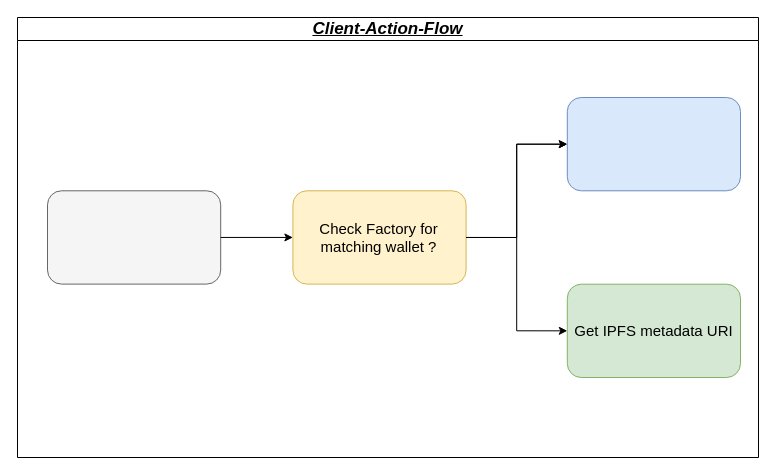
Image size: 776x475. Some labels were removed from this diagram. Each missing label, with the centre of its shape:
"Generate New Wallet" goes at point 653,143.
"username password" goes at point 133,237.
